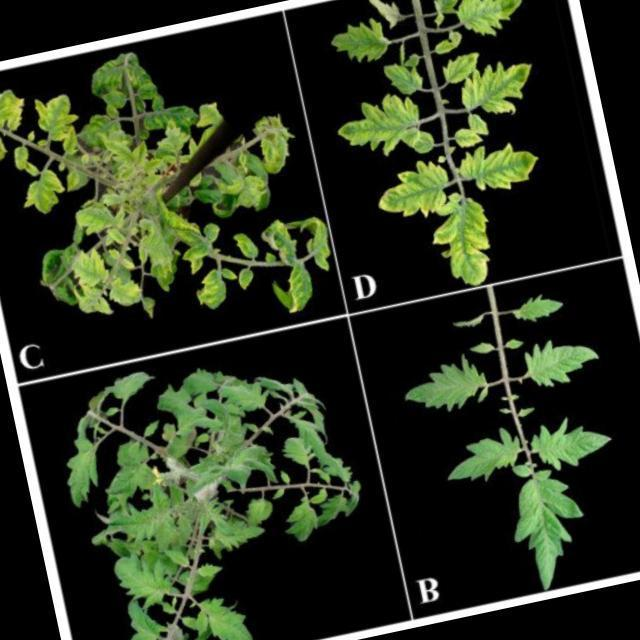Healthy Leaf: (500, 463, 598, 601), (397, 350, 498, 429), (436, 420, 528, 492), (528, 411, 618, 474), (521, 328, 606, 390), (502, 287, 568, 328)
Yellow Curl Virus: (426, 190, 510, 294), (333, 94, 428, 164), (454, 54, 548, 118), (370, 156, 460, 222), (460, 134, 548, 194), (324, 12, 392, 72), (27, 88, 84, 144), (455, 0, 531, 38), (16, 164, 70, 216), (380, 52, 430, 98), (190, 265, 240, 311), (68, 244, 114, 289), (438, 46, 486, 88), (281, 264, 316, 314), (232, 228, 260, 261), (10, 144, 34, 171), (237, 268, 258, 292)
